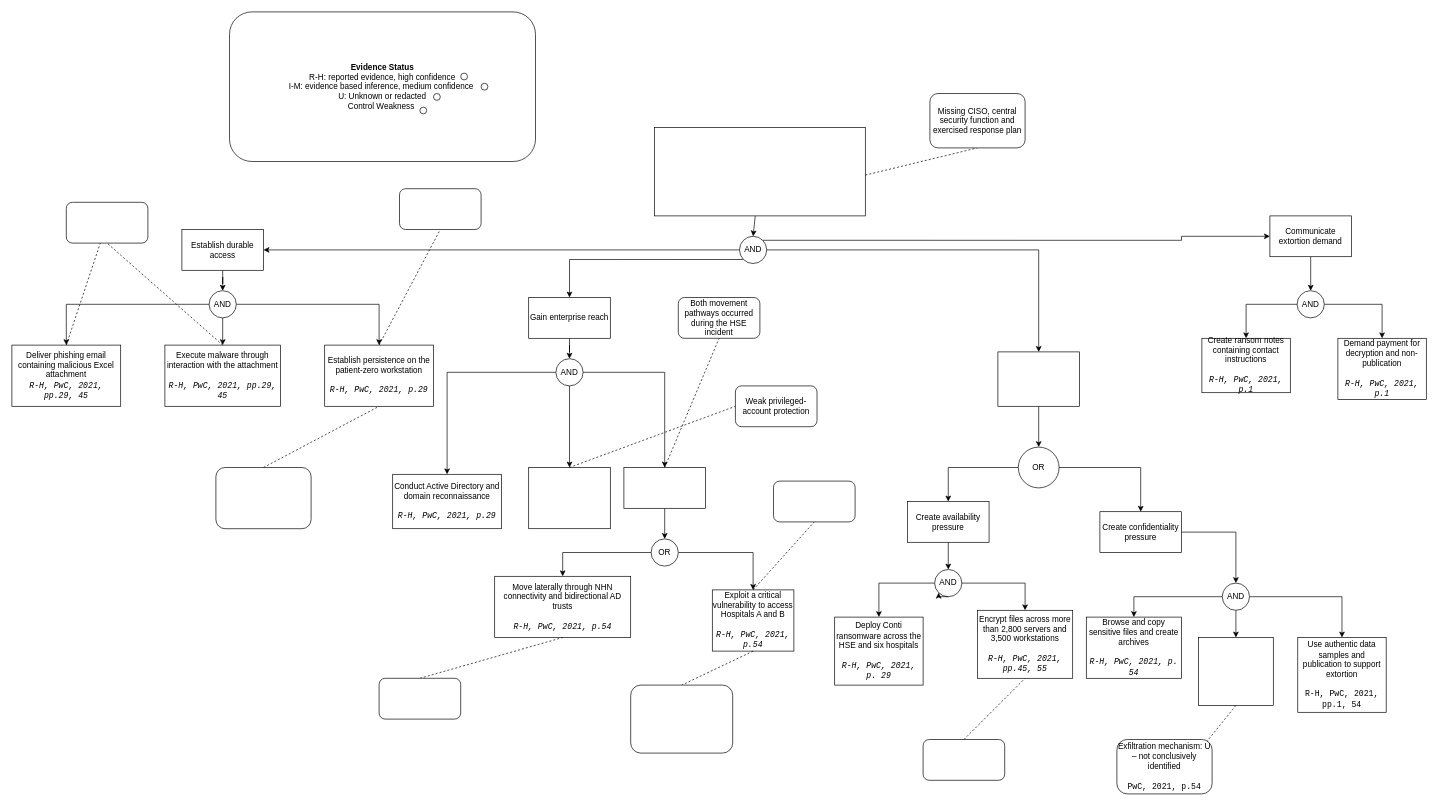
Image size: 1438x806. Some labels were removed from this diagram. The centre of each missing label's shape, as x and y in pixels:
Compromise and use highly privileged accounts R-H, PwC, 2021, pp. 29,45,54: the point at 569,498
Create coercive impact: the point at 1038,378
Exact exploit name: U – redacted PwC, 2021, p.54: the point at 681,718
Exact persistence mechanism U – not disclosed PwC, 2021, p.29: the point at 263,498
Flat network, inadequate segmentation and AD trusts: the point at 419,698
Inadequate backups: the point at 963,759
Monitoring-mode antivirus and inadequate alert escalation: the point at 440,209
Move into HSE and hospital systems: the point at 664,487
Objective: achieve ransomware extortion against the HSE: the point at 759,171
Outdated antivirus signatures and weak macro controls: the point at 107,222
Patching weaknesses: the point at 814,501
Transfer HSE data outside the environment I-M, PwC, 2021, p.54: the point at 1235,671
